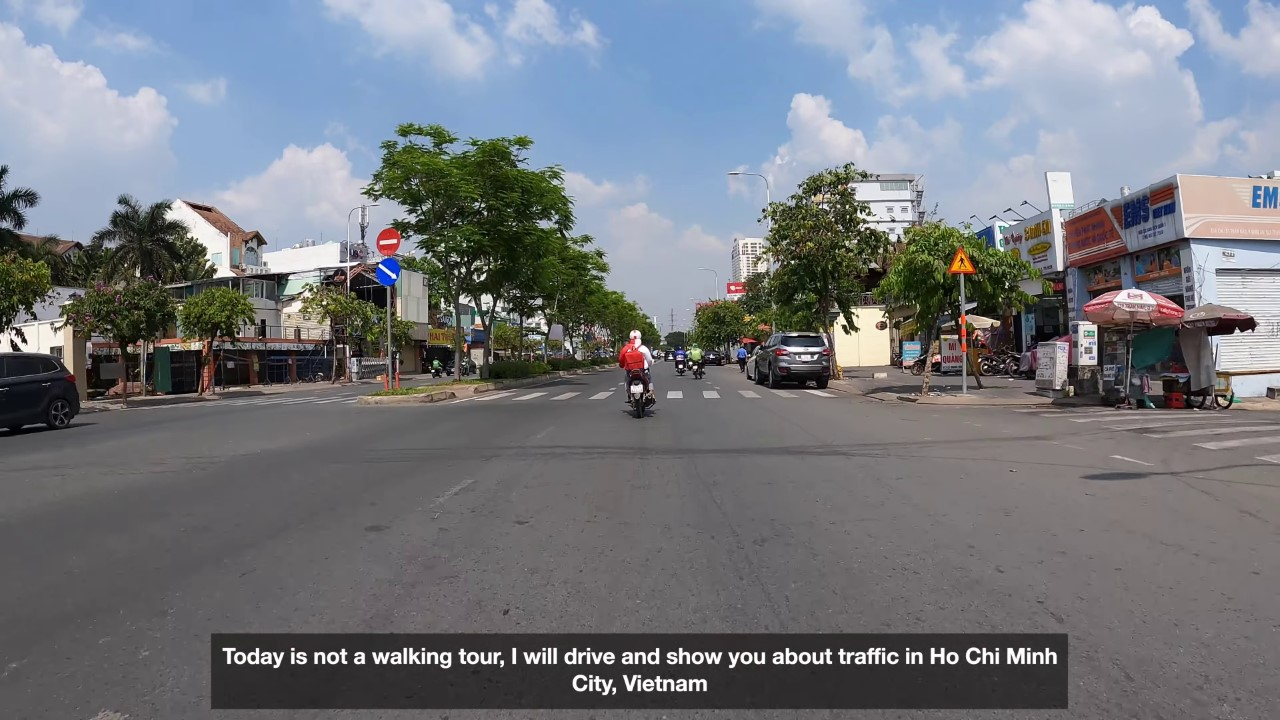cam_nguoc_chieu: (374, 226, 403, 257)
can_than_nguoi_qua_duong: (944, 243, 979, 275)
huong_phai_di_vong: (375, 258, 401, 289)
